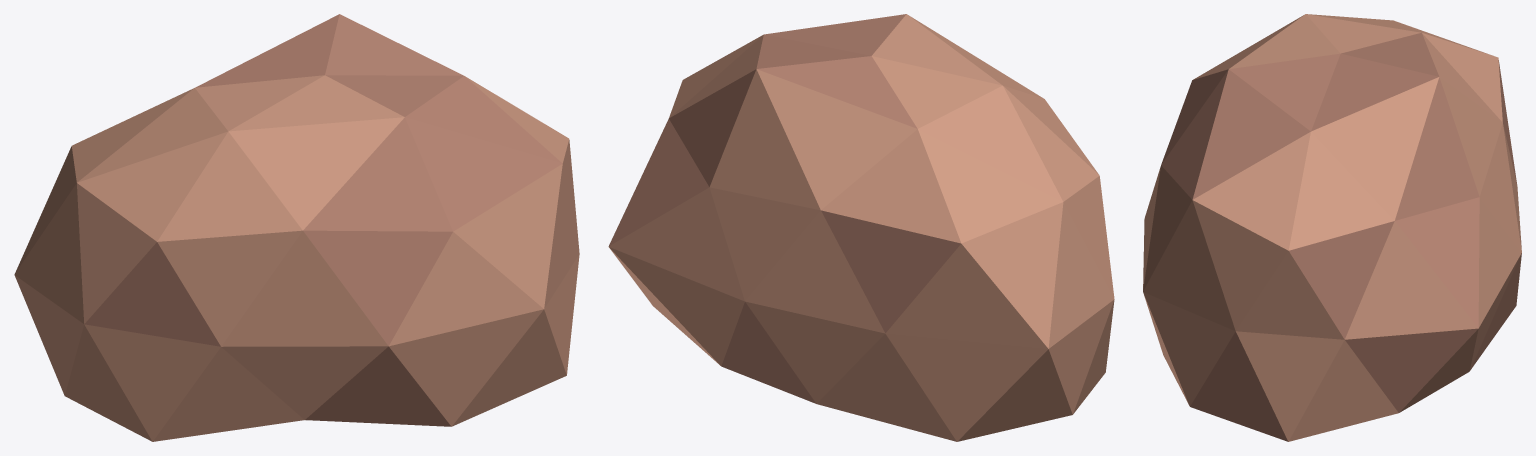
File: Kit_Rock_1.fbx
3 views of the same model, side by side, from view 1: azimuth 30°, elevation 25°; view 2: azimuth 150°, elevation 25°; view 3: azimuth 270°, elevation 25° (orthographic). The views are drawn at different scales.
Parts seen in each view (by area): view 1: Kit_Rock_1; view 2: Kit_Rock_1; view 3: Kit_Rock_1.
Part boxes in pixels (box(x1,y1,x2,y2)): Kit_Rock_1: box(14, 14, 579, 441); Kit_Rock_1: box(608, 14, 1114, 441); Kit_Rock_1: box(1143, 14, 1521, 441).
Size of the model in its own units: 1.4 by 0.87 by 1.02.
